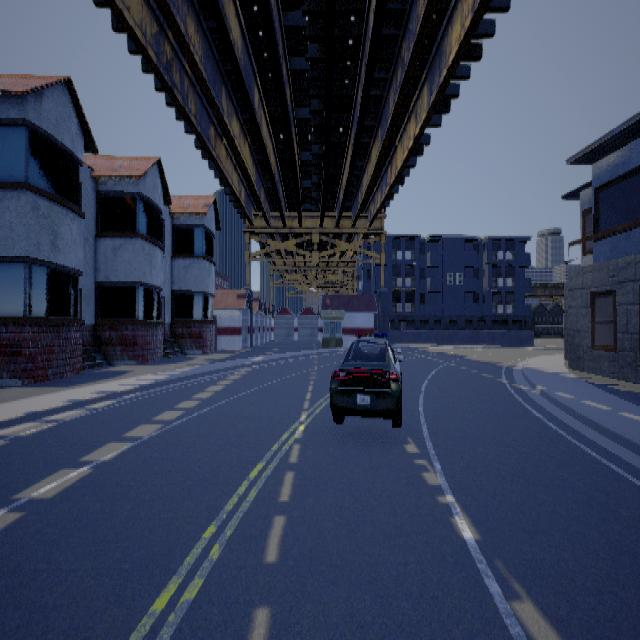vehicle: (328, 332, 404, 426)
